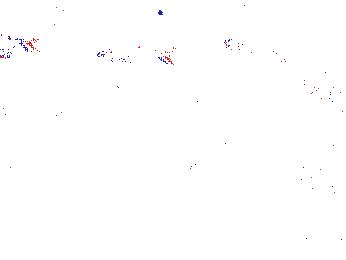X-ray fish: (24, 1, 82, 39)
glassfish: (177, 125, 261, 190)
redtail glassfish: (111, 65, 176, 99), (95, 44, 175, 67), (218, 36, 285, 63)
